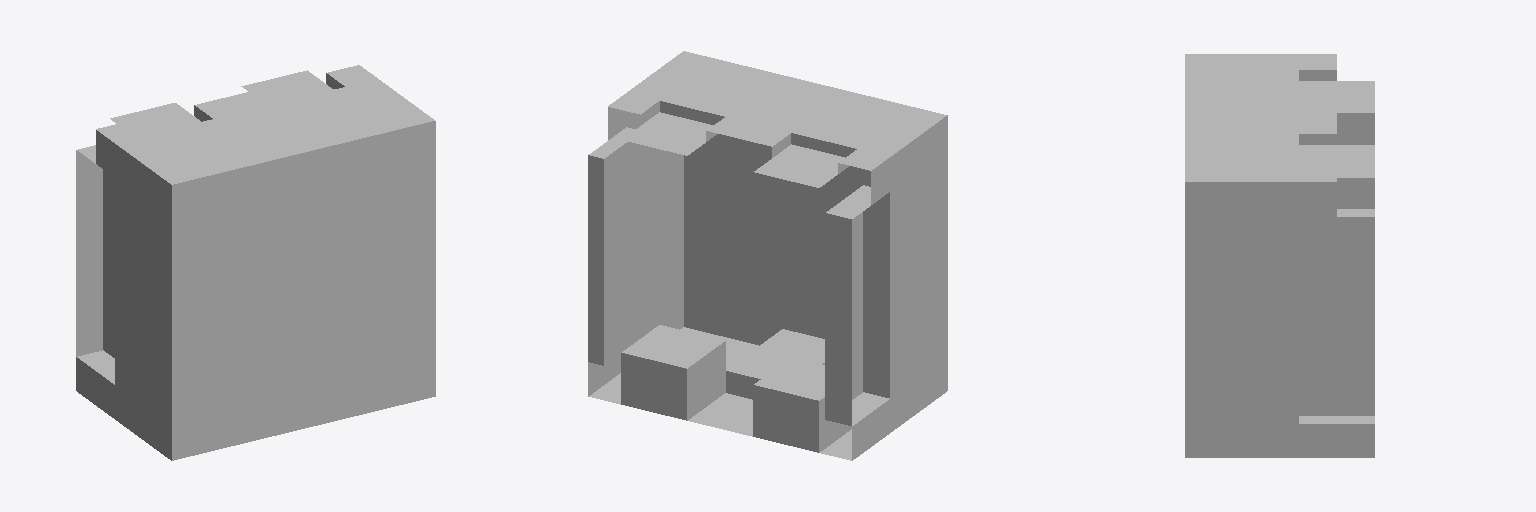
Rendered from muzeum_12.obj.
The picture shows the model from 3 angles: view 1: azimuth 30°, elevation 25°; view 2: azimuth 150°, elevation 25°; view 3: azimuth 270°, elevation 25°; orthographic projection.
Visible parts, largest first — view 1: Cube.001; view 2: Cube.001; view 3: Cube.001.
Boxes of the visible parts, <box> form: Cube.001: <box>76,65,435,460</box>; Cube.001: <box>588,51,947,460</box>; Cube.001: <box>1185,54,1374,457</box>.
Size of the model in its own units: 0.0242 by 0.0242 by 0.0151.